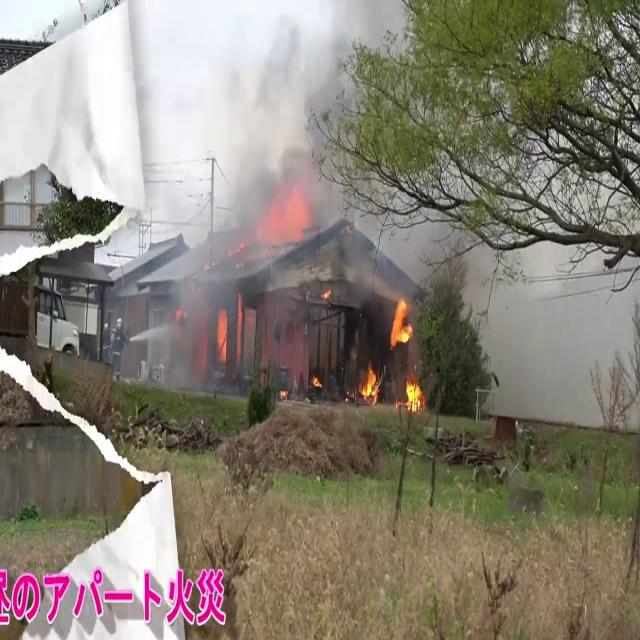Fire: (388, 292, 424, 414), (358, 358, 382, 408)
Smoke: (162, 4, 344, 384)
